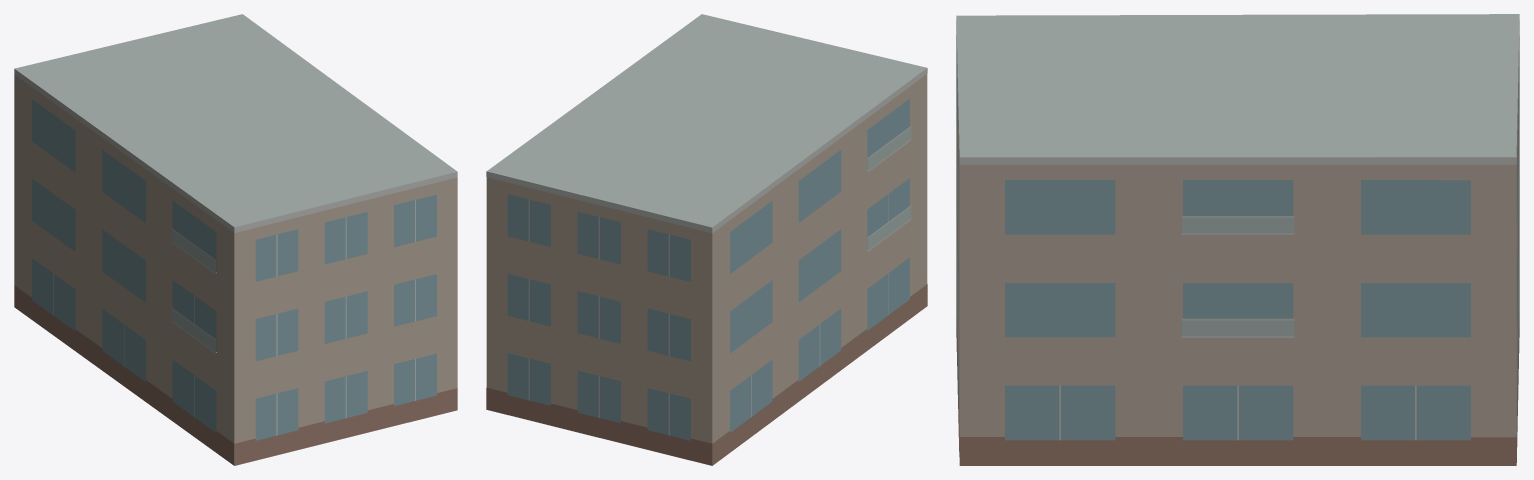
File: survey-upis-32610843.glb
3 renders of one model, left to right at view 1: azimuth 30°, elevation 25°; view 2: azimuth 150°, elevation 25°; view 3: azimuth 270°, elevation 25°, orthographic. The views are drawn at different scales.
Visible parts, largest first — view 1: survey-upis-32610843.tmp; view 2: survey-upis-32610843.tmp; view 3: survey-upis-32610843.tmp.
Boxes of the visible parts, <box> form: survey-upis-32610843.tmp: <box>14,14,457,465</box>; survey-upis-32610843.tmp: <box>486,14,927,465</box>; survey-upis-32610843.tmp: <box>956,14,1519,465</box>.
Bounding box in the file's own units: 10.21 × 10.2 × 16.89.
